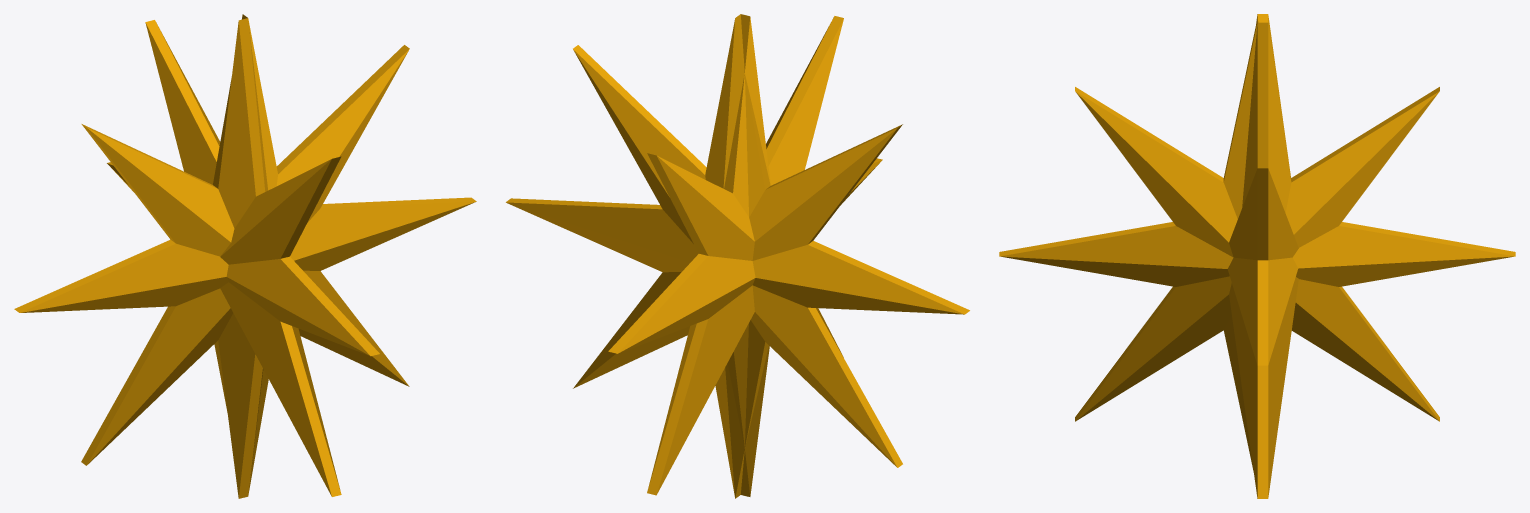
Rendered from Prefab_Xmas_Tree_Topper_A.glb.
3 views of the same model, side by side, from view 1: azimuth 30°, elevation 25°; view 2: azimuth 150°, elevation 25°; view 3: azimuth 270°, elevation 25° (orthographic). The views are drawn at different scales.
Visible parts, largest first — view 1: TreeTopper_Star_C; view 2: TreeTopper_Star_C; view 3: TreeTopper_Star_C.
Part boxes in pixels (box(x1,y1,x2,y2)): TreeTopper_Star_C: box(14, 14, 476, 498); TreeTopper_Star_C: box(506, 14, 969, 498); TreeTopper_Star_C: box(999, 14, 1515, 498).
Size of the model in its own units: 0.4789 by 0.4789 by 0.4789.
